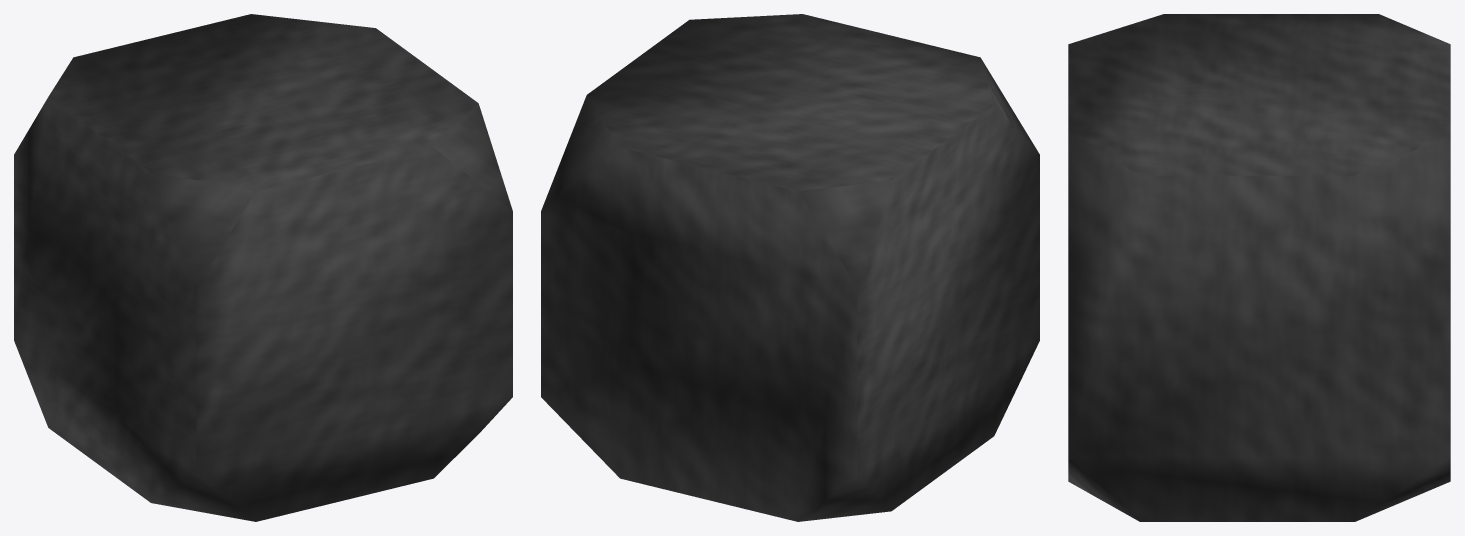
Rendered from stone.fbx.
3 renders of one model, left to right at view 1: azimuth 30°, elevation 25°; view 2: azimuth 150°, elevation 25°; view 3: azimuth 270°, elevation 25°, orthographic. The views are drawn at different scales.
Visible parts, largest first — view 1: pCube1; view 2: pCube1; view 3: pCube1.
Boxes of the visible parts, <box> form: pCube1: <box>14,14,512,521</box>; pCube1: <box>541,14,1039,521</box>; pCube1: <box>1068,14,1450,521</box>.
Bounding box in the file's own units: 18.89 × 18.89 × 18.89.
Materials: 1 (1 with a texture image).
